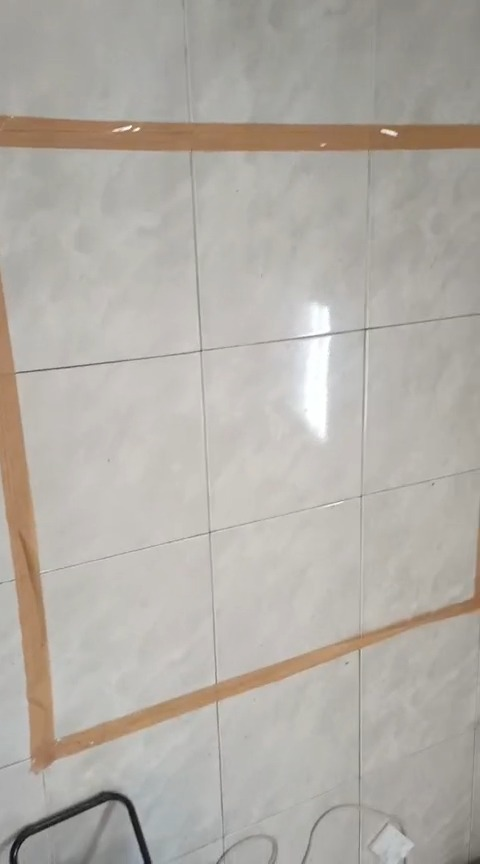floor marking: (0, 279, 479, 769), (1, 118, 479, 152)
